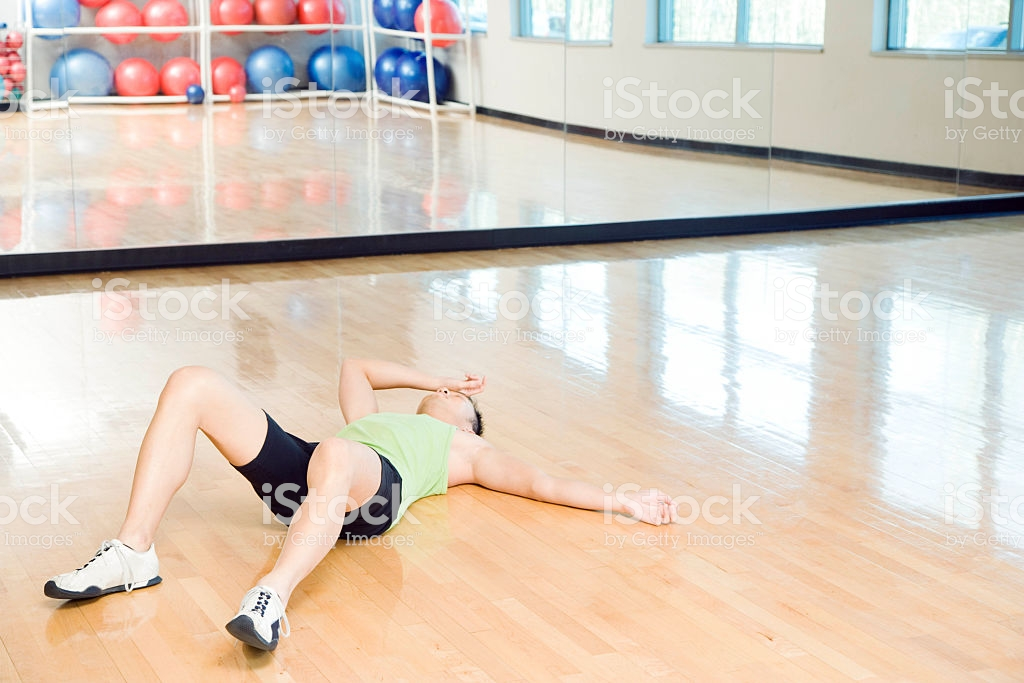collapsed: (11, 310, 699, 667)
